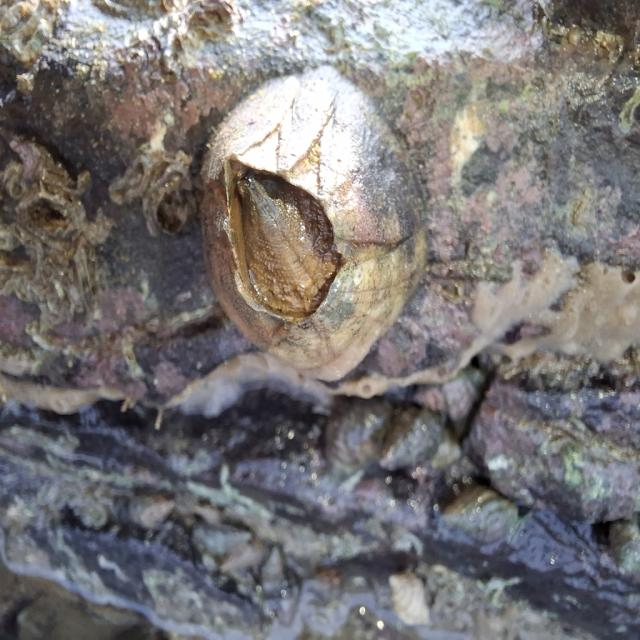barnacles: (175, 59, 435, 385)
